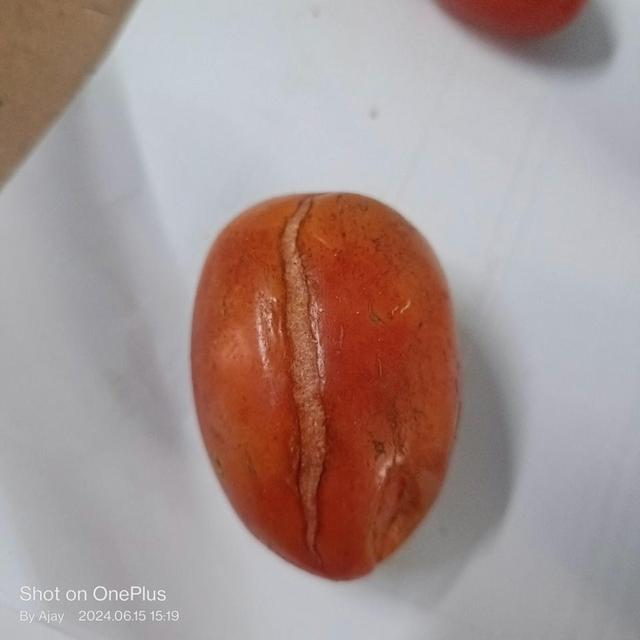Cracking Fruit: (109, 34, 290, 219)
